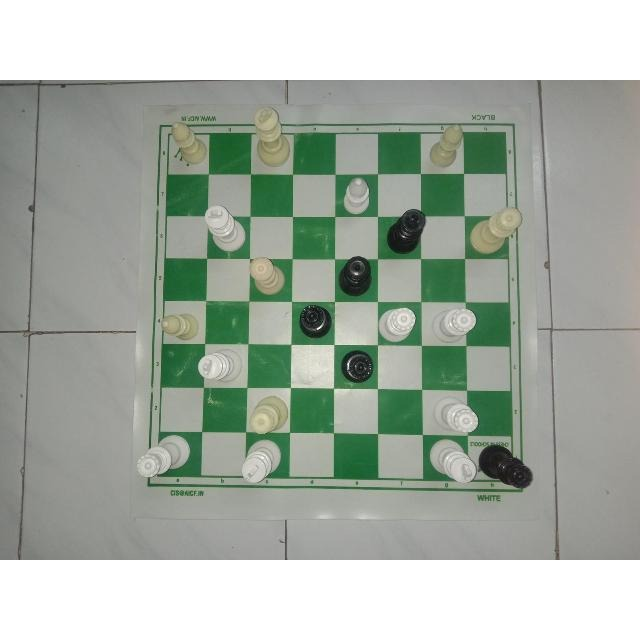black-king: (386, 204, 428, 255)
black-queen: (482, 439, 538, 491), (337, 253, 373, 299), (296, 301, 334, 339), (337, 346, 373, 384)
white-bishop: (166, 116, 214, 164), (424, 122, 468, 169), (158, 308, 206, 342), (340, 173, 376, 215)
white-king: (428, 436, 480, 485), (202, 203, 250, 255), (252, 106, 291, 168), (238, 437, 286, 483), (192, 346, 244, 388)
white-queen: (465, 206, 522, 257), (135, 431, 194, 480), (429, 394, 479, 434), (247, 390, 290, 436), (431, 305, 479, 345), (247, 255, 288, 298), (376, 304, 417, 344)
